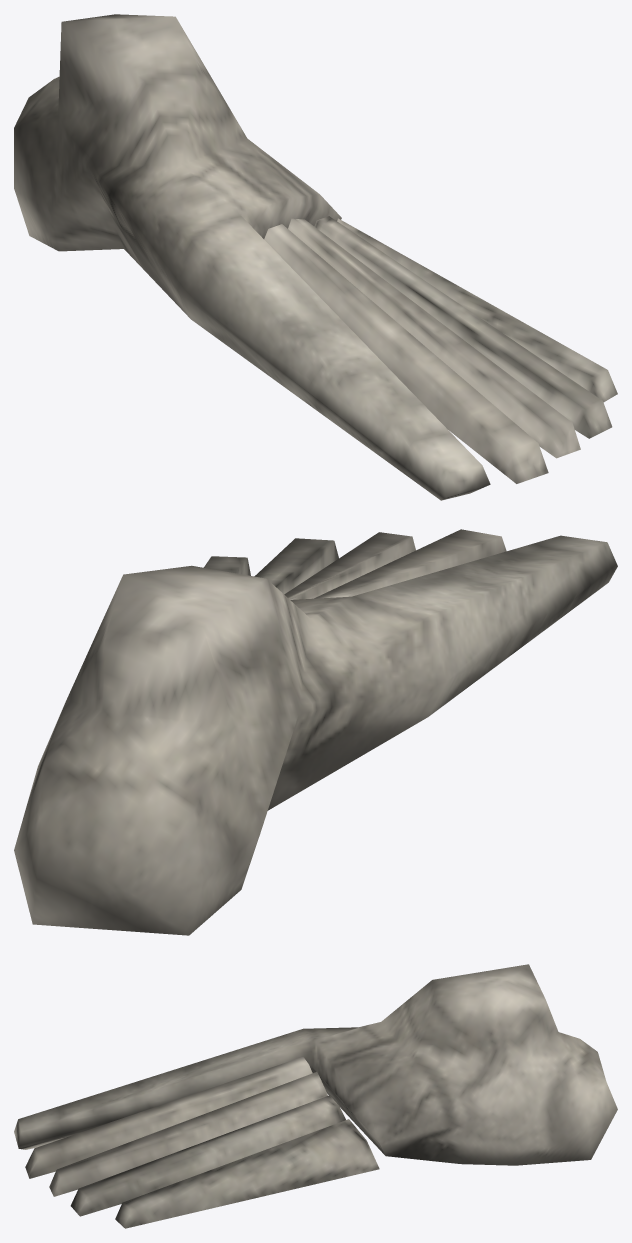
Rendered from pieIzq.obj.
3 views of the same model, one above another, from view 1: azimuth 30°, elevation 25°; view 2: azimuth 150°, elevation 25°; view 3: azimuth 270°, elevation 25° (orthographic). The views are drawn at different scales.
Parts seen in each view (by area): view 1: pieIzq; view 2: pieIzq; view 3: pieIzq.
Part boxes in pixels (x1,y1,x2,y2): pieIzq: (14, 14, 617, 500); pieIzq: (14, 529, 617, 935); pieIzq: (14, 964, 617, 1228).
Bounding box in the file's own units: 0.1334 × 0.0971 × 0.3119.
1 material, 1 textured.
